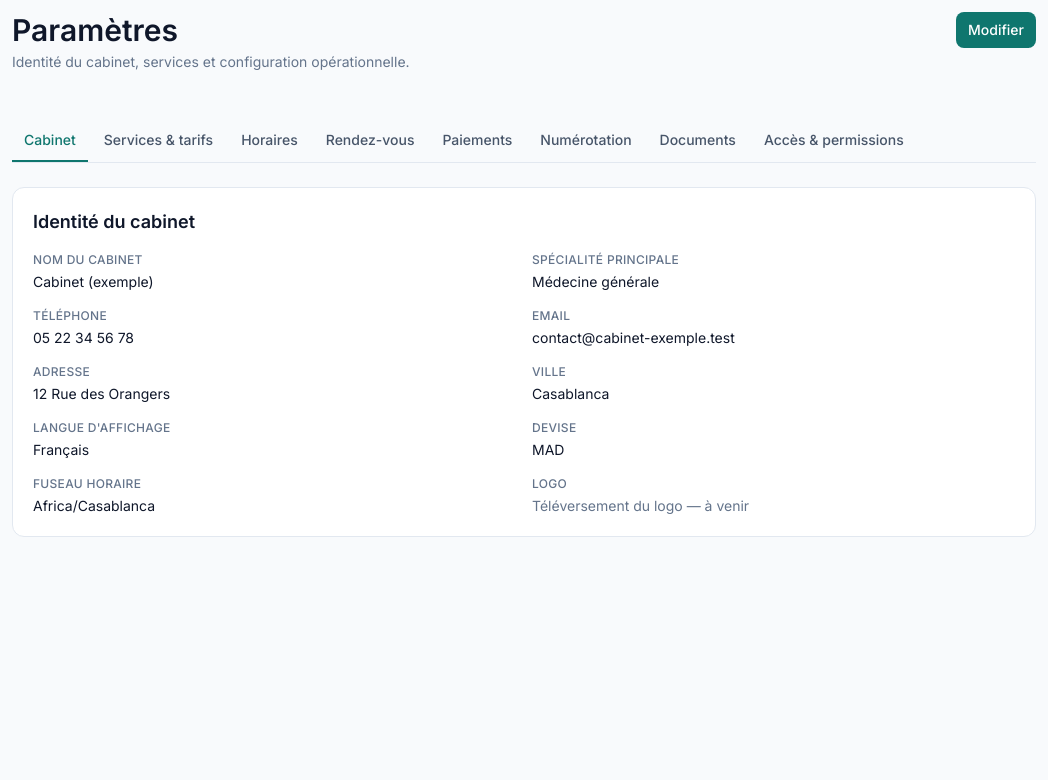
Test: CabinetSettingsPage › blocks submit and shows an error when the name is cleared
Click the button "Modifier" at (996, 30), box [956,12,1036,48]
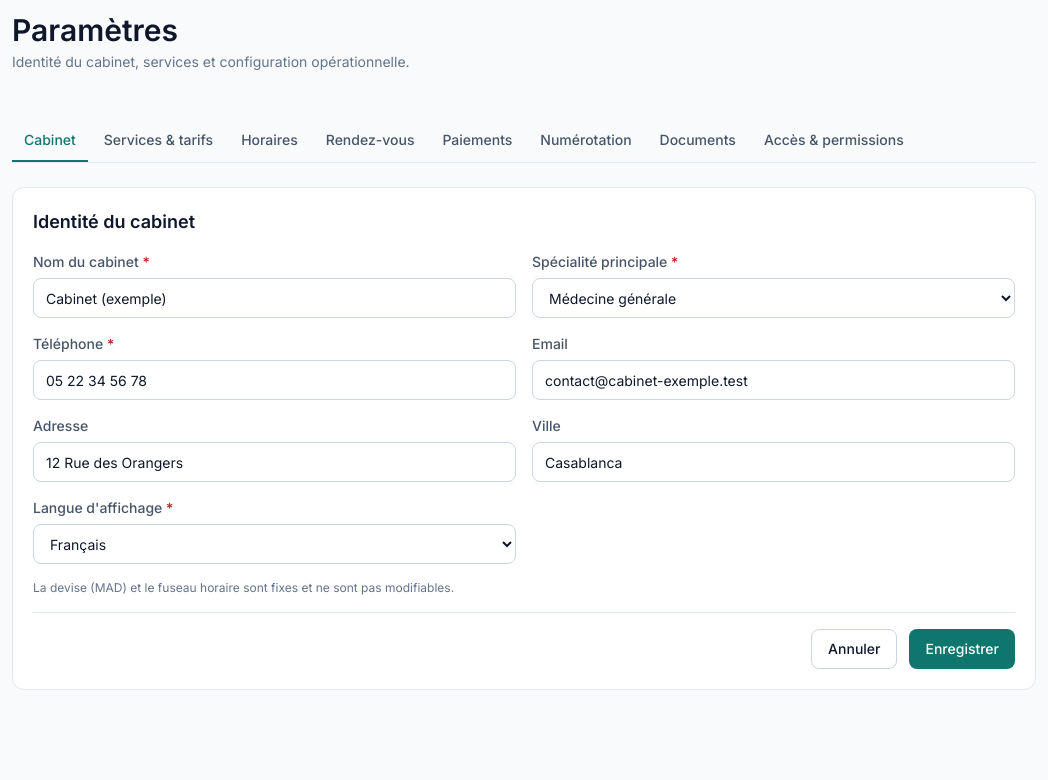
Clear the field labelled "Nom du cabinet *" at (274, 298), box [33,278,516,318]
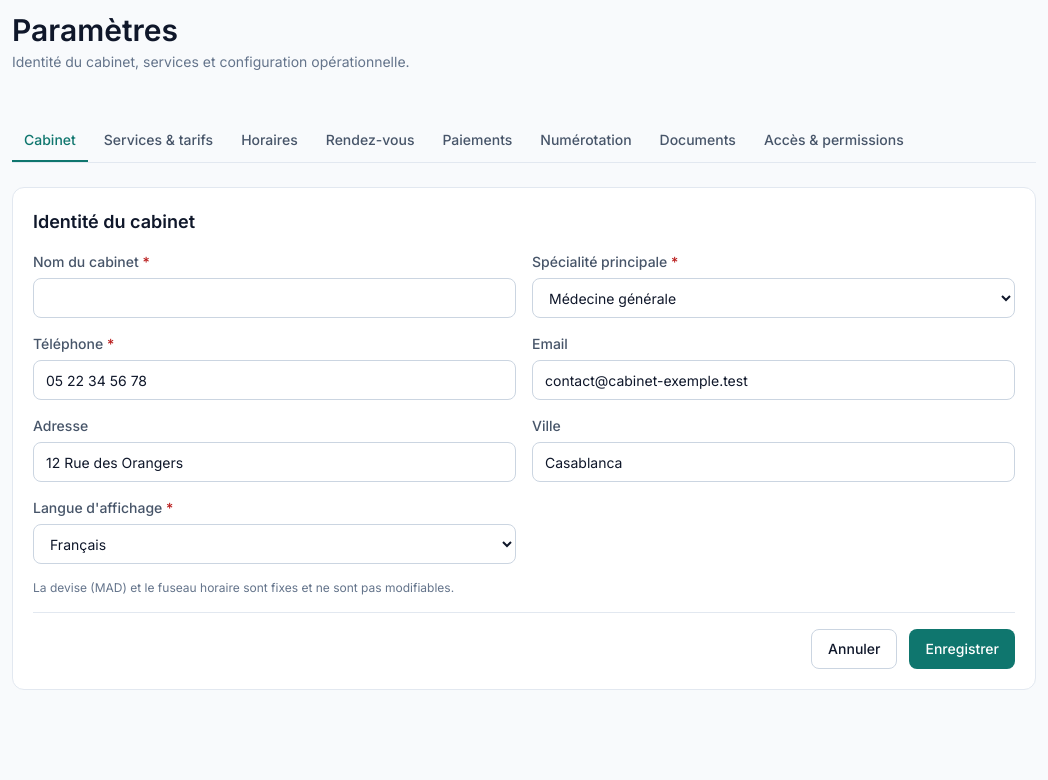
Click the button "Enregistrer" at (962, 649), box [910,629,1015,669]
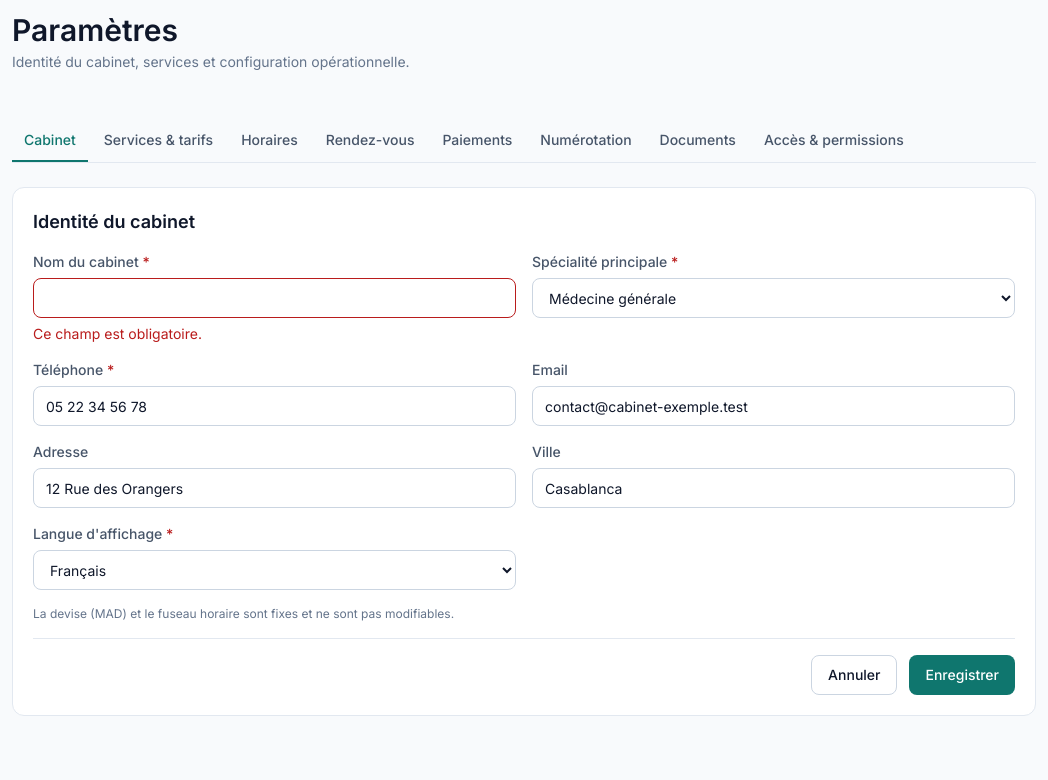
Result: the text "Ce champ est obligatoire." is shown at [33,325,202,342]
